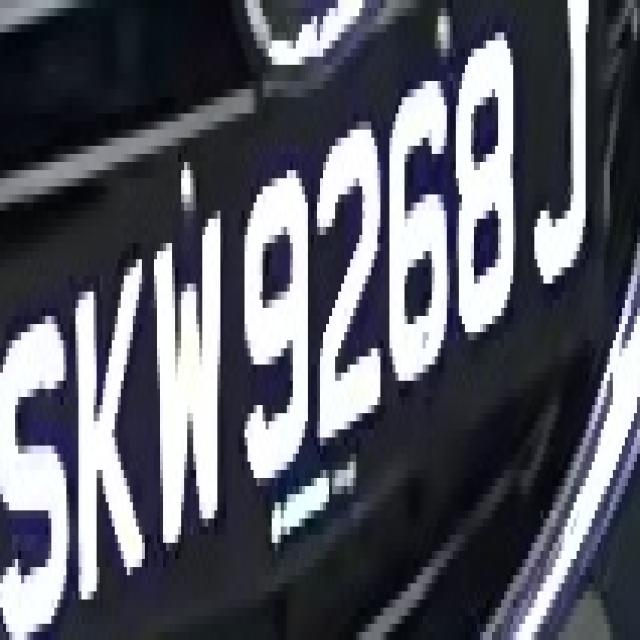2: (302, 105, 386, 454)
6: (377, 25, 453, 438)
8: (450, 16, 528, 397)
9: (238, 138, 317, 510)
J: (534, 8, 610, 300)
K: (72, 260, 148, 584)
S: (0, 283, 69, 631)
W: (139, 203, 226, 592)
